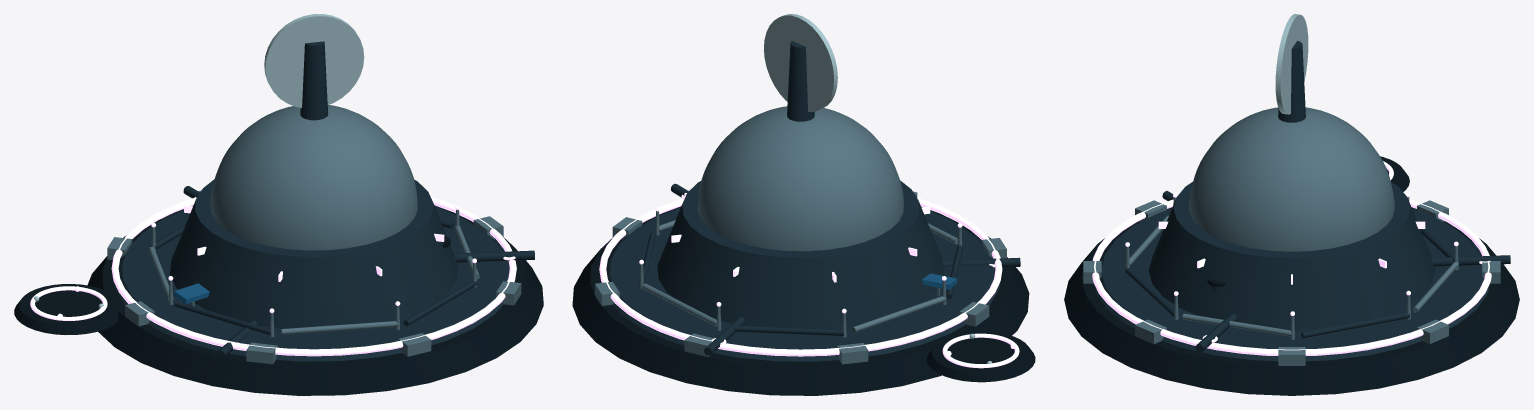
Rendered from researchLab-stage1.glb.
The picture shows the model from 3 angles, left to right: view 1: azimuth 30°, elevation 25°; view 2: azimuth 150°, elevation 25°; view 3: azimuth 270°, elevation 25°; orthographic projection.
Visible parts, largest first — view 1: observatory-dome, laboratory-base, armored-foundation, upper-deck, deep-space-dish, perimeter-light, landing-pad, sensor-spire, landing-guidance-light, service-catwalk-1, utility-conduit-2, service-catwalk-2 (+5 smaller); view 2: observatory-dome, laboratory-base, armored-foundation, upper-deck, deep-space-dish, perimeter-light, landing-pad, sensor-spire, landing-guidance-light, service-catwalk-4, service-catwalk-3, buttress-5 (+6 smaller); view 3: observatory-dome, laboratory-base, armored-foundation, upper-deck, perimeter-light, deep-space-dish, sensor-spire, service-catwalk-6, service-catwalk-7, utility-conduit-1, buttress-1, buttress-7 (+5 smaller).
Part boxes in pixels (x1=…): observatory-dome: x1=210, y1=105, x2=417, y2=250; laboratory-base: x1=170, y1=179, x2=458, y2=328; armored-foundation: x1=87, y1=205, x2=543, y2=395; upper-deck: x1=114, y1=206, x2=514, y2=361; deep-space-dish: x1=264, y1=14, x2=364, y2=107; perimeter-light: x1=111, y1=197, x2=516, y2=356; landing-pad: x1=14, y1=284, x2=118, y2=335; sensor-spire: x1=300, y1=41, x2=328, y2=120; landing-guidance-light: x1=30, y1=286, x2=107, y2=320; service-catwalk-1: x1=281, y1=321, x2=398, y2=334; utility-conduit-2: x1=454, y1=250, x2=534, y2=262; service-catwalk-2: x1=174, y1=301, x2=270, y2=335; observatory-dome: x1=697, y1=106, x2=903, y2=251; laboratory-base: x1=657, y1=180, x2=944, y2=329; armored-foundation: x1=572, y1=206, x2=1029, y2=395; upper-deck: x1=601, y1=207, x2=999, y2=361; deep-space-dish: x1=764, y1=14, x2=837, y2=111; perimeter-light: x1=599, y1=198, x2=1002, y2=356; landing-pad: x1=926, y1=331, x2=1035, y2=382; sensor-spire: x1=787, y1=41, x2=814, y2=121; landing-guidance-light: x1=942, y1=333, x2=1019, y2=368; service-catwalk-4: x1=727, y1=325, x2=843, y2=335; service-catwalk-3: x1=852, y1=296, x2=945, y2=332; buttress-5: x1=837, y1=343, x2=868, y2=364; observatory-dome: x1=1189, y1=107, x2=1394, y2=251; laboratory-base: x1=1148, y1=181, x2=1435, y2=330; armored-foundation: x1=1064, y1=207, x2=1519, y2=395; upper-deck: x1=1094, y1=208, x2=1489, y2=361; perimeter-light: x1=1092, y1=199, x2=1491, y2=355; deep-space-dish: x1=1275, y1=14, x2=1308, y2=114; sensor-spire: x1=1278, y1=41, x2=1305, y2=122; service-catwalk-6: x1=1301, y1=312, x2=1409, y2=338; service-catwalk-7: x1=1182, y1=313, x2=1291, y2=336; utility-conduit-1: x1=1431, y1=255, x2=1510, y2=266; buttress-1: x1=1135, y1=319, x2=1166, y2=343; buttress-7: x1=1417, y1=319, x2=1448, y2=343.
Bounding box in the file's own units: 9.84 × 5.8 × 8.53.
